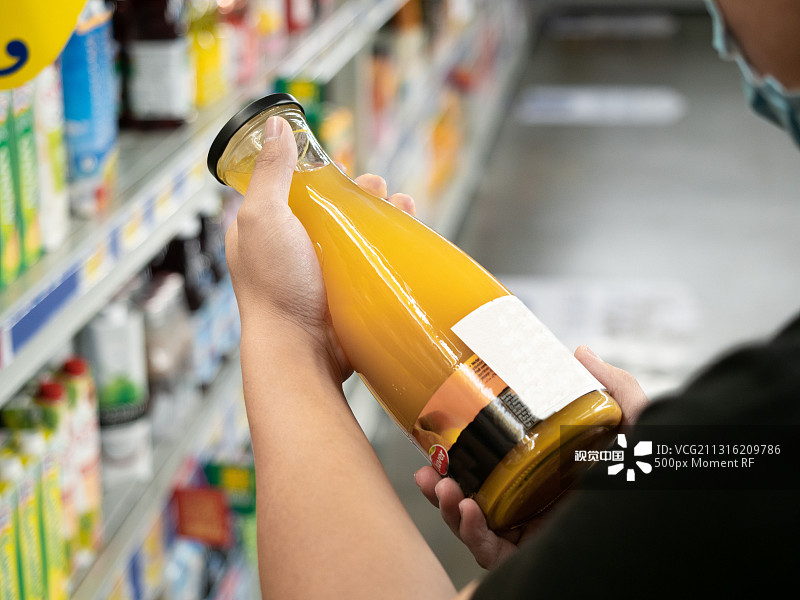no-phone: (399, 335, 673, 583), (201, 106, 445, 382)
